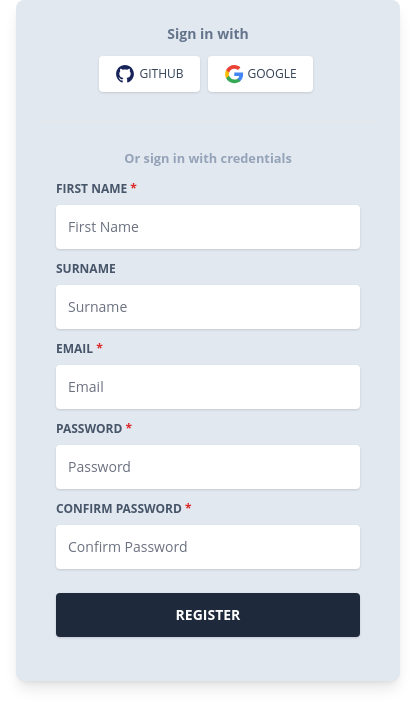
Test: Register User › Firstname is not provided and confirmPassword input does not match
The image size is (417, 710).
Type "email@email.com" into the field with test id "email". click: (208, 387)
box: [56,365,360,409]
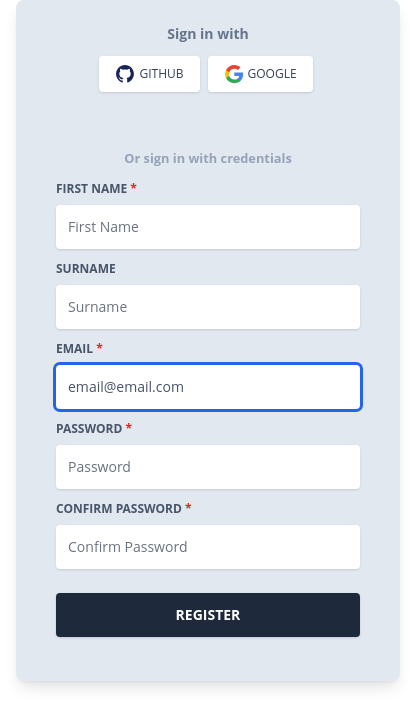
Type "password" into the password field with test id "password". click: (208, 467)
box: [56,445,360,489]
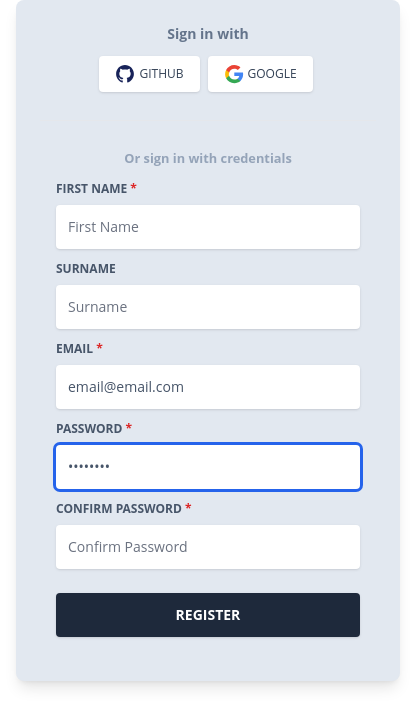
Type "email@email.com" into the password field with test id "confirmPassword". click: (208, 547)
box: [56,525,360,569]
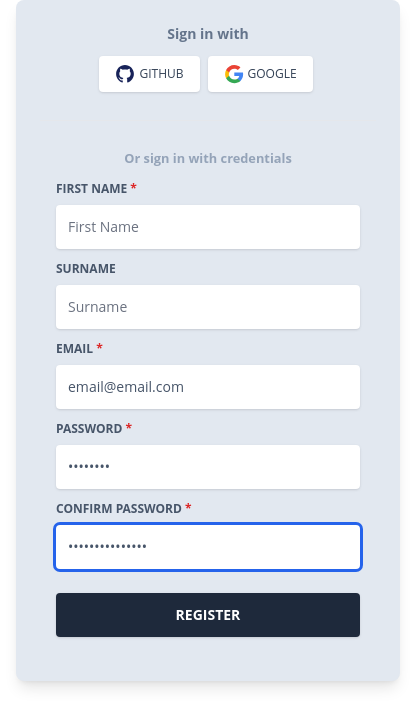
Click the button with test id "register". click: click(208, 615)
box: [56,593,360,637]
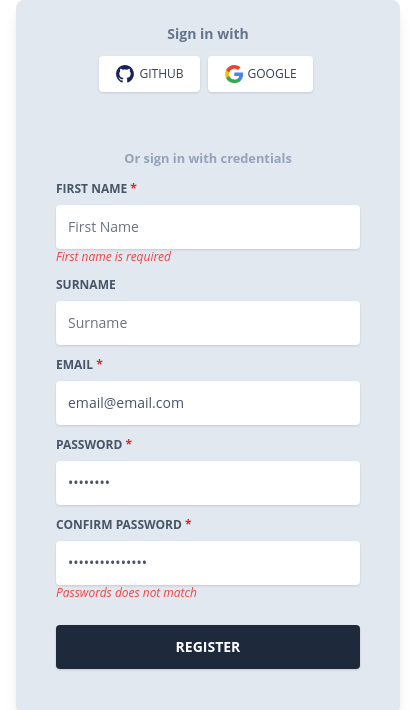
Expected: the text "First name is required" is shown, [56,248,171,265]
Expected: the text "Passwords does not match" is shown, [56,584,197,601]
